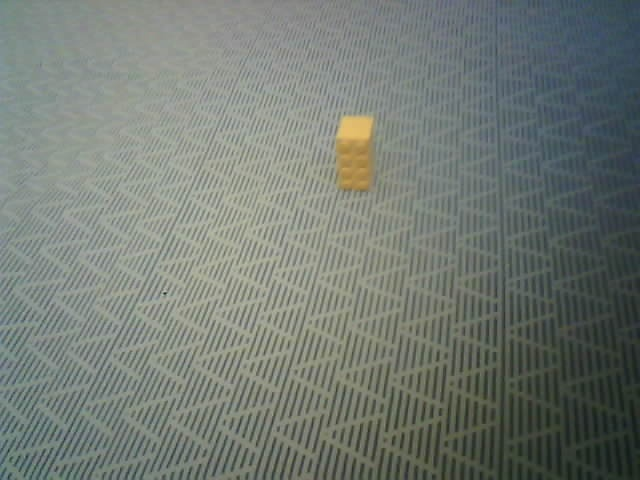lego: (333, 115, 376, 191)
